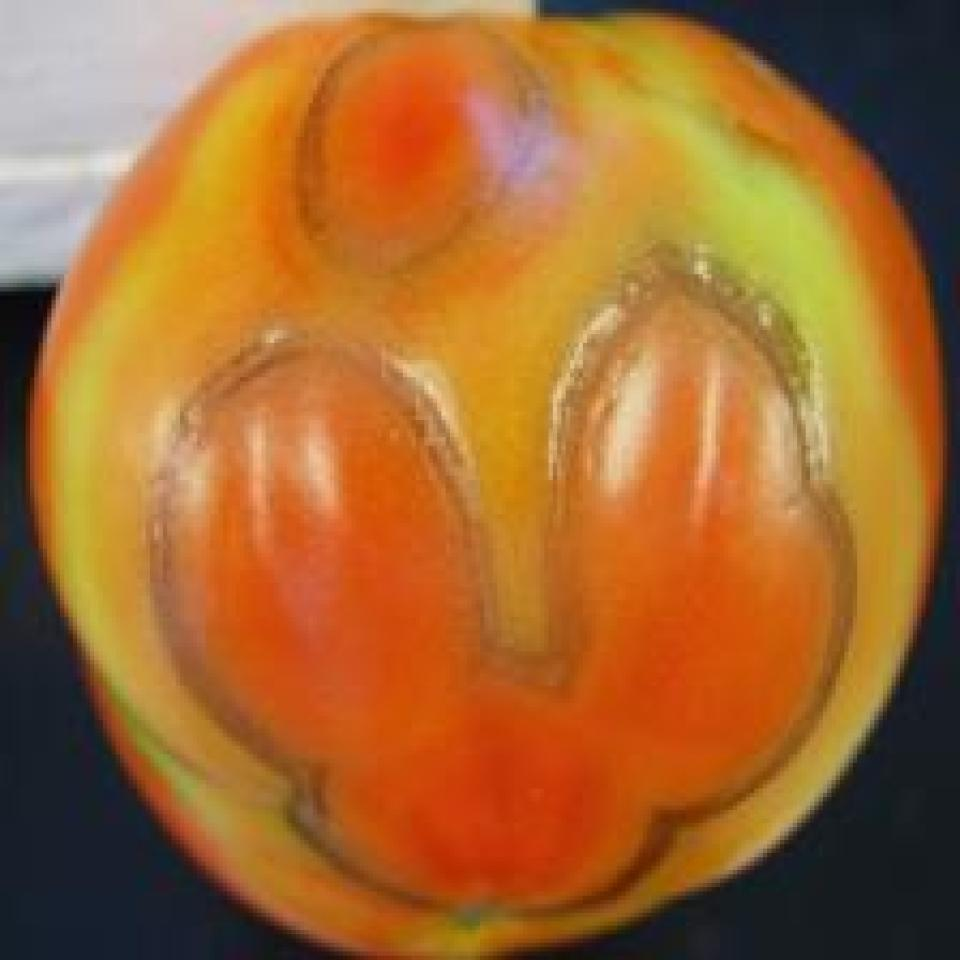Spotted wilt Virus: (31, 4, 946, 960)
